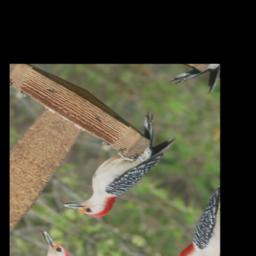Woodpecker: (59, 102, 183, 233)
